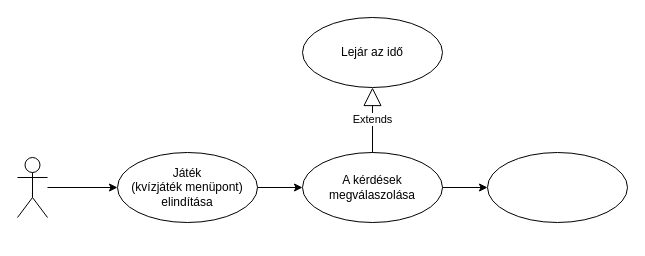
The diagram is 645 pixels wide and 256 high, and some of its shapes have lost their labels. Here are the shapes that lost their labels. From the top down, the box of each, then its label:
(16, 156, 48, 218): Actor
(486, 152, 628, 222): Eredmény kiírása
